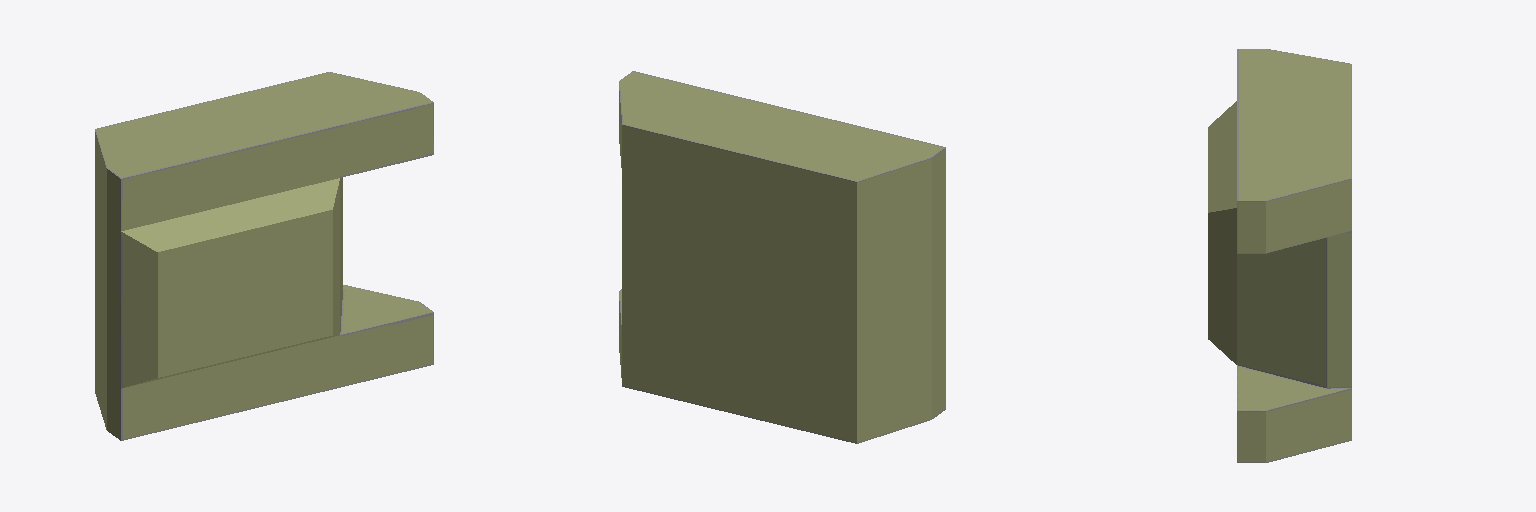
3 renders of one model, left to right at view 1: azimuth 30°, elevation 25°; view 2: azimuth 150°, elevation 25°; view 3: azimuth 270°, elevation 25°, orthographic.
Parts seen in each view (by area): view 1: cube1; view 2: cube1; view 3: cube1.
Boxes of the visible parts, <box> form: cube1: <box>95,72,433,440</box>; cube1: <box>619,71,945,443</box>; cube1: <box>1208,49,1351,462</box>.
Size of the model in its own units: 1.08 by 0.864 by 0.432.
1 materials, 1 textured.